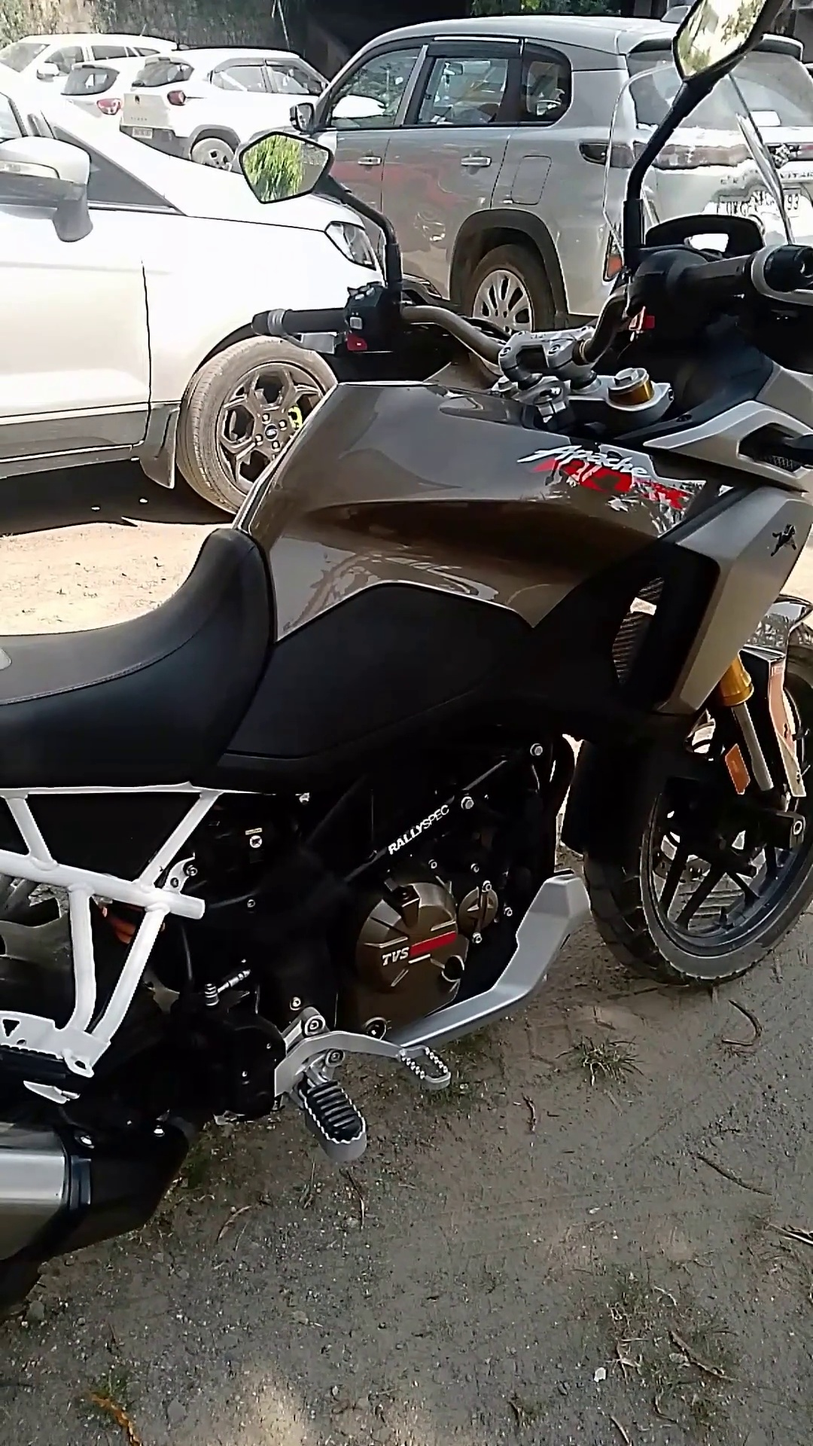bike-engine: (341, 863, 509, 1044)
bike-engine-level: (360, 1013, 395, 1041)
bike-oil-cap: (435, 950, 466, 990)
